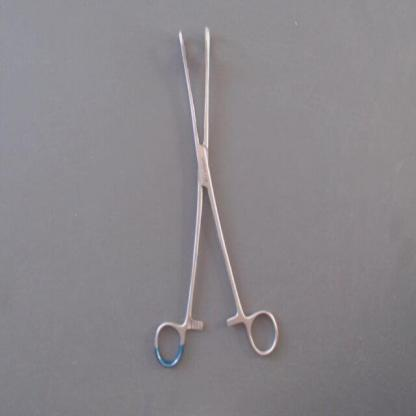Sponge Forceps: (148, 10, 286, 377)
